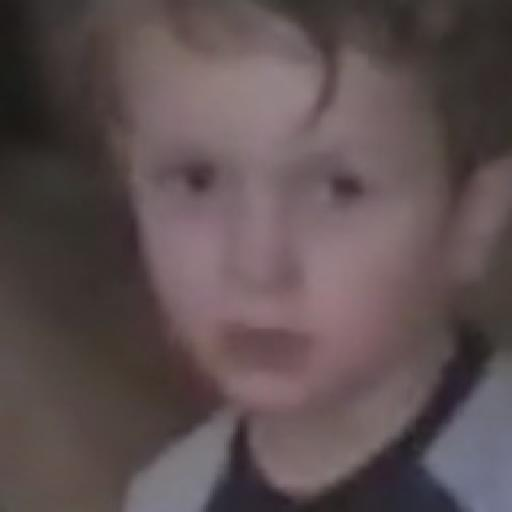Autism: (77, 9, 512, 411)
